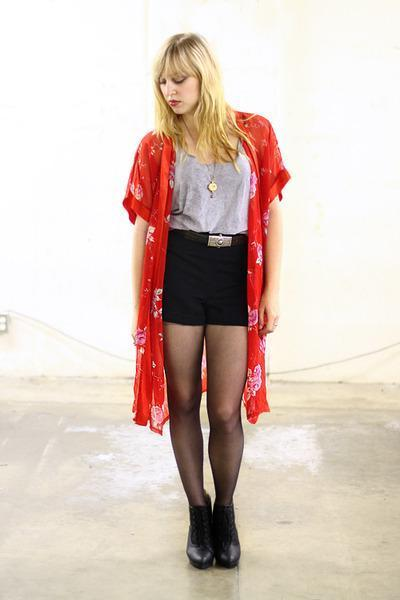Shorts: (161, 227, 258, 329)
short sleeve shirt: (164, 132, 254, 237)
